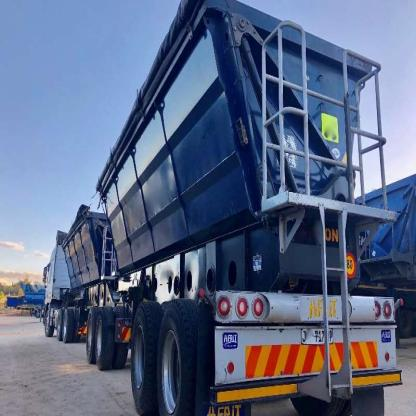dump_truck: (34, 7, 398, 410)
